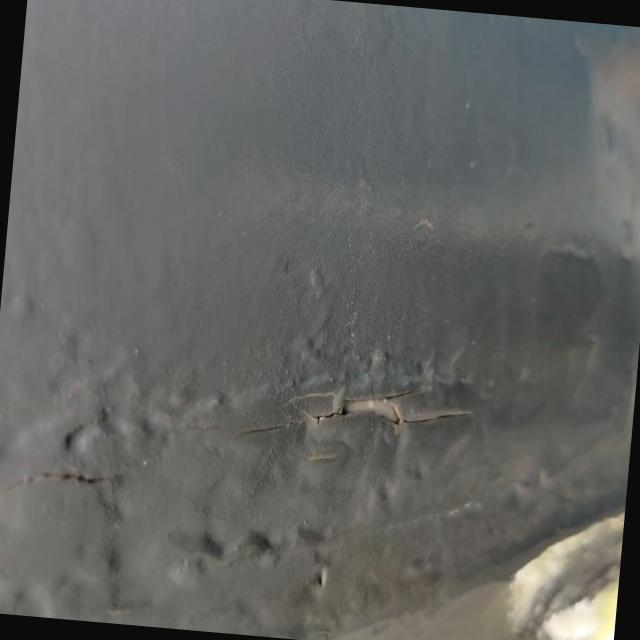crack: (227, 352, 489, 464)
